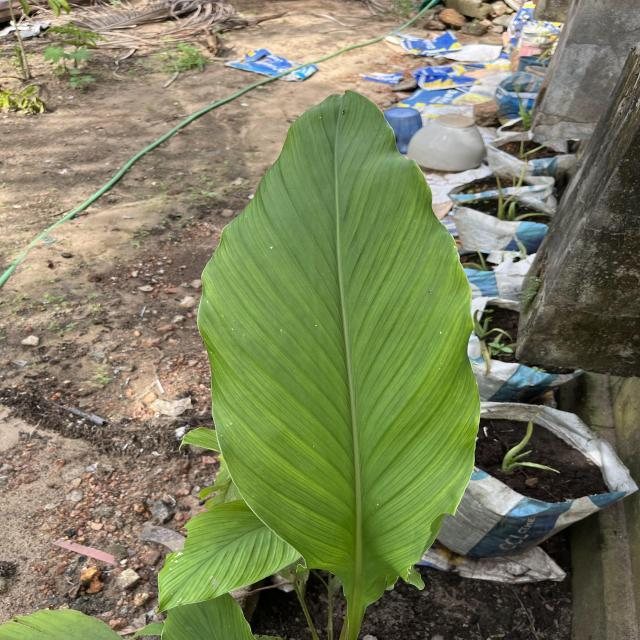Curcuma longa: (193, 85, 484, 614)
